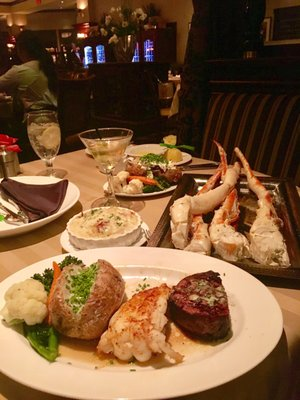sushi: (0, 174, 75, 240), (111, 145, 190, 206), (65, 205, 147, 250)
